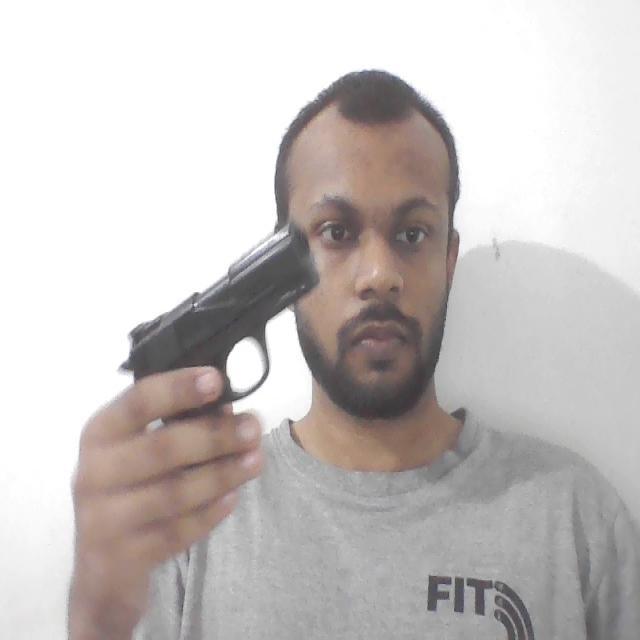handgun: (119, 224, 321, 428)
